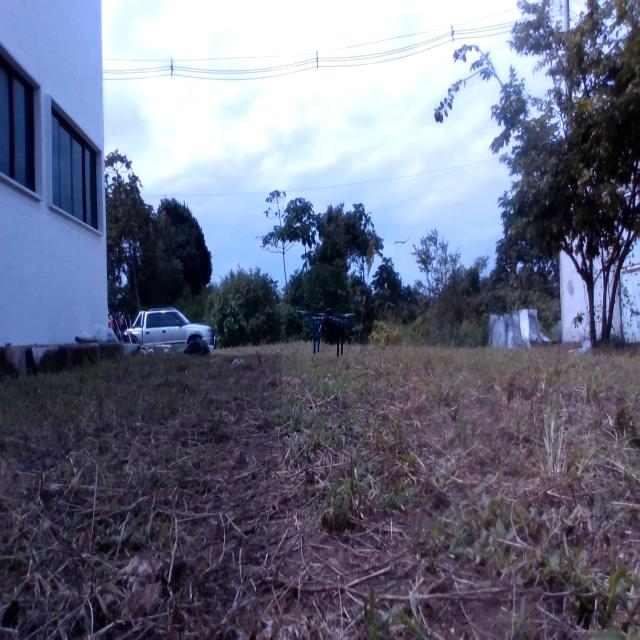-uav-: (306, 284, 352, 376)
